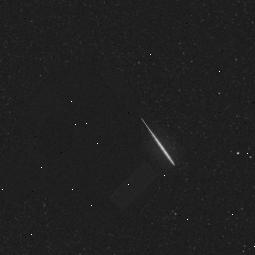cheops: (94, 121, 179, 221)
